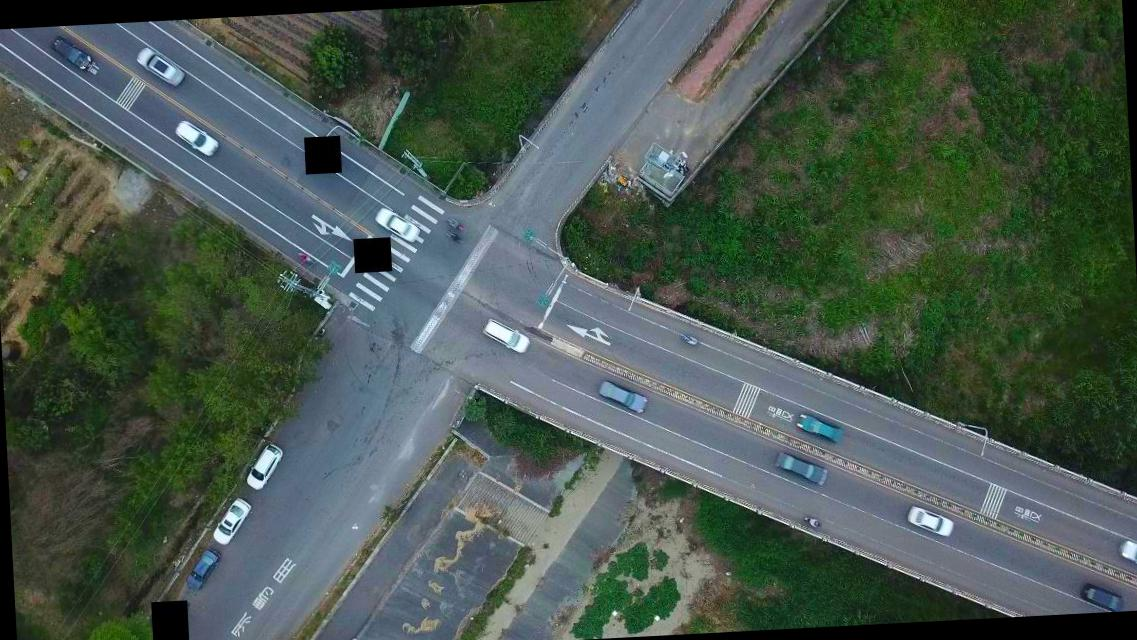vehicle: (132, 44, 184, 90), (773, 450, 830, 488), (210, 496, 252, 547), (372, 204, 420, 246), (242, 443, 284, 491), (172, 120, 221, 159), (595, 380, 647, 416), (795, 410, 845, 447), (480, 320, 529, 356), (1075, 580, 1125, 614), (903, 504, 952, 538), (182, 548, 221, 590), (49, 34, 92, 70), (1117, 536, 1136, 571)
